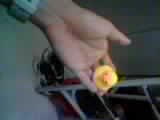duck: (78, 61, 132, 98)
